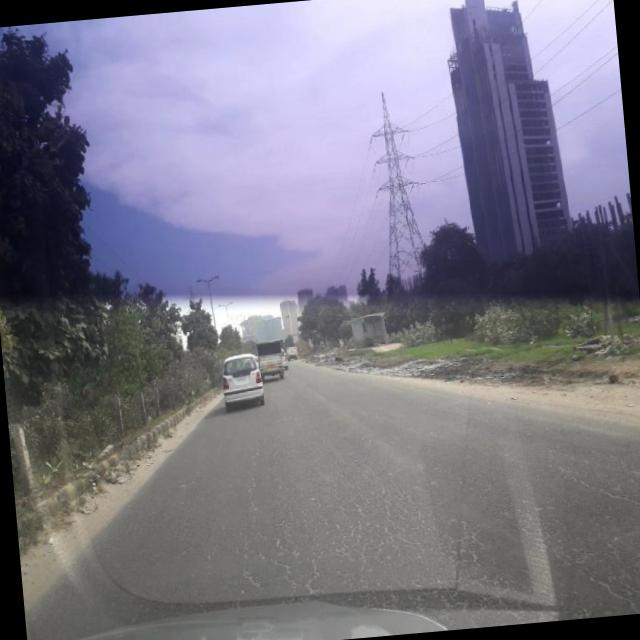crack: (115, 397, 640, 621)
